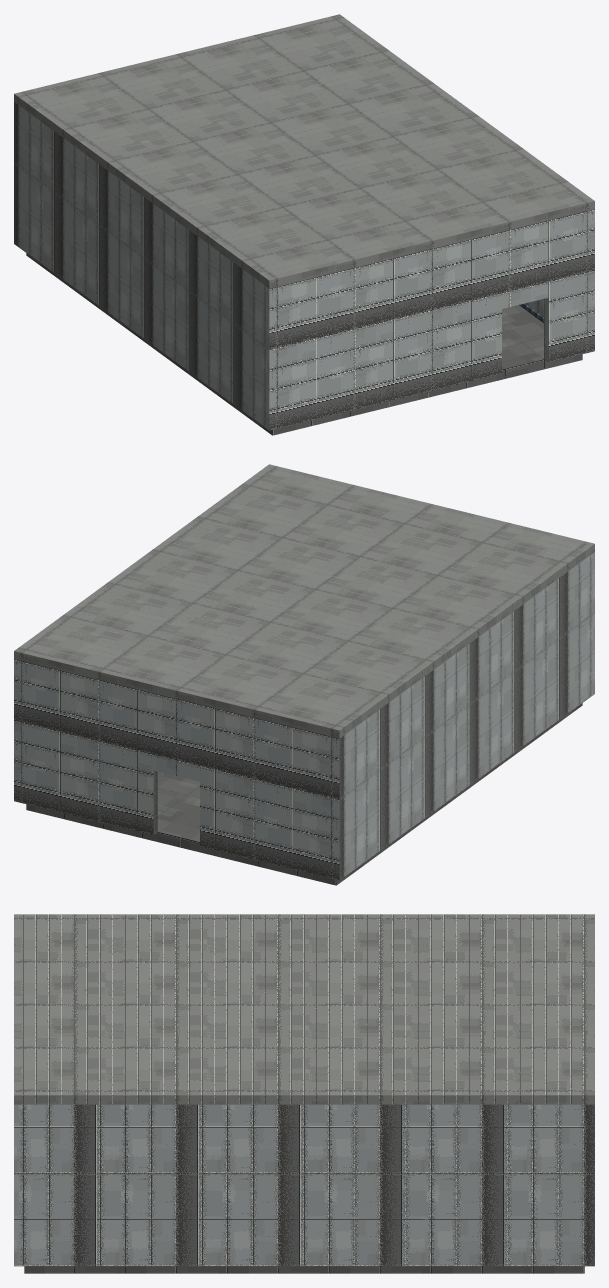
Rendered from shell_concourse_pier.glb.
3 renders of one model, top to bottom at view 1: azimuth 30°, elevation 25°; view 2: azimuth 150°, elevation 25°; view 3: azimuth 270°, elevation 25°, orthographic. The views are drawn at different scales.
Parts seen in each view (by area): view 1: cp; view 2: cp; view 3: cp.
Part boxes in pixels (x1,y1,x2,y2): cp: (14,14,594,435); cp: (14,464,594,885); cp: (14,914,594,1273).
Size of what is drawn, in the model's own units: 16.8 by 7.9 by 22.8.
4 materials, 4 textured.
